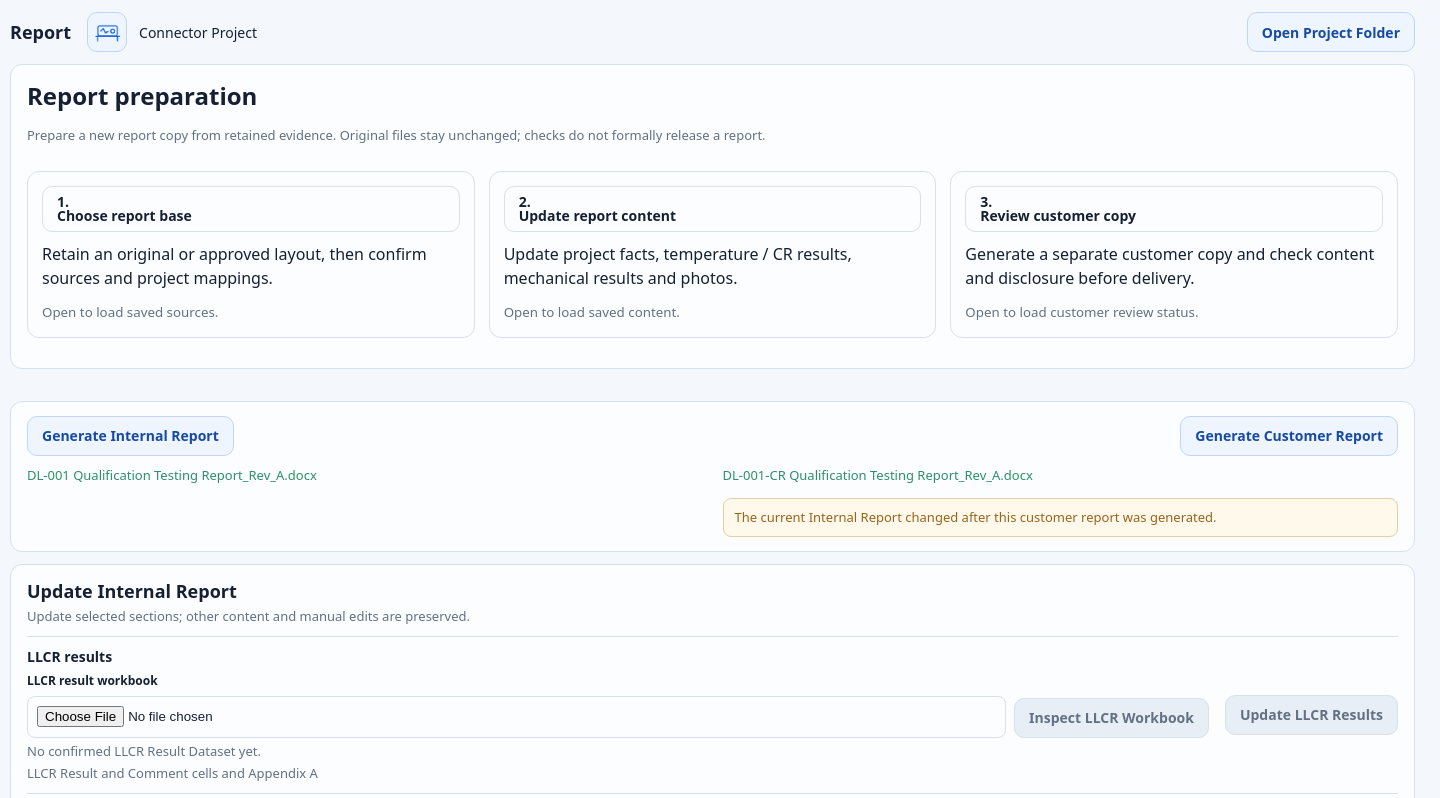
Test: ReportWorkspace › shows draft download failure without publishing and allows retry
Step 1. Click the button "Generate Internal Report" → (130, 436), box [27,416,234,456]
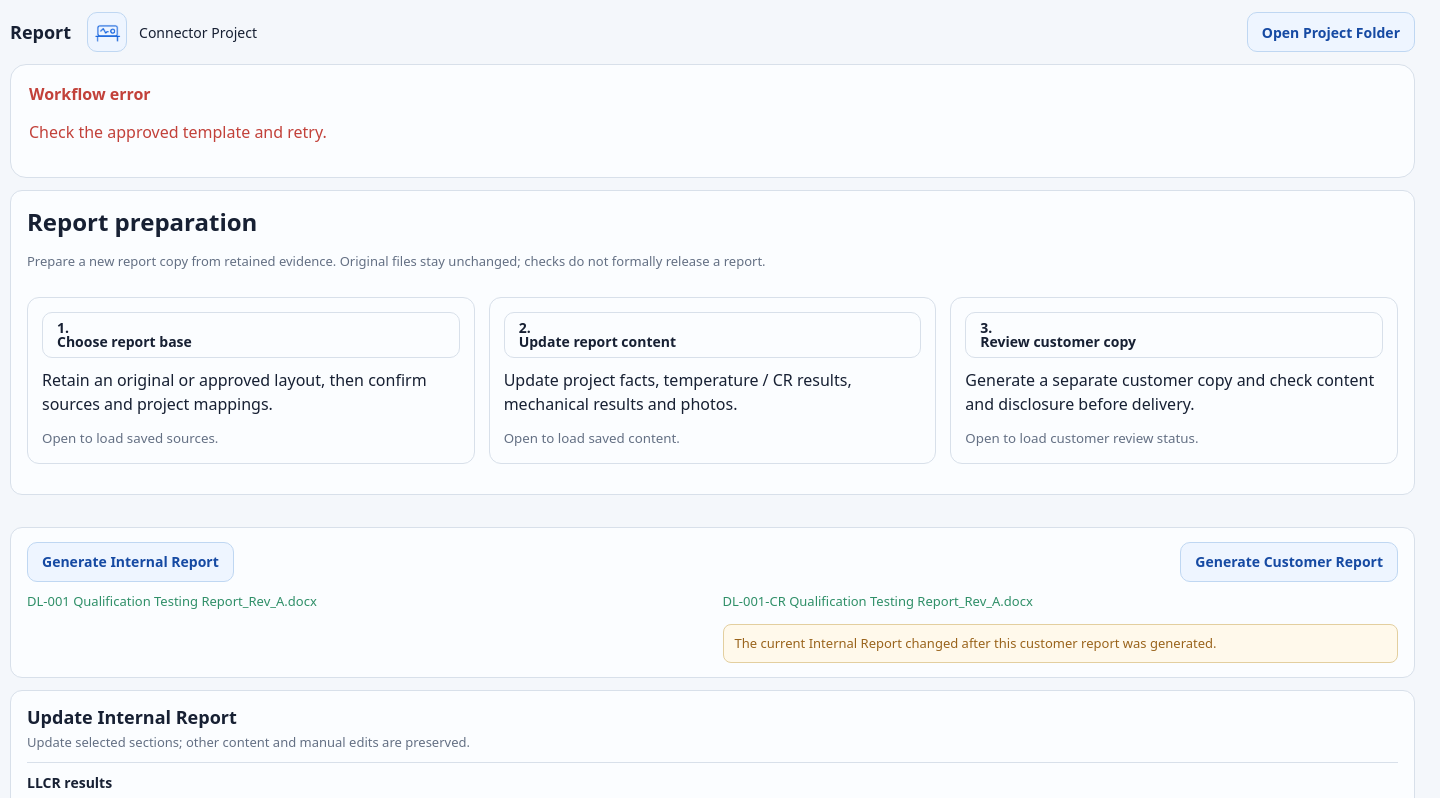
Check: the message shows "Check the approved template and retry.", box [29,121,327,143]
Step 2. Click the button "Generate Internal Report" → (130, 562), box [27,542,234,582]
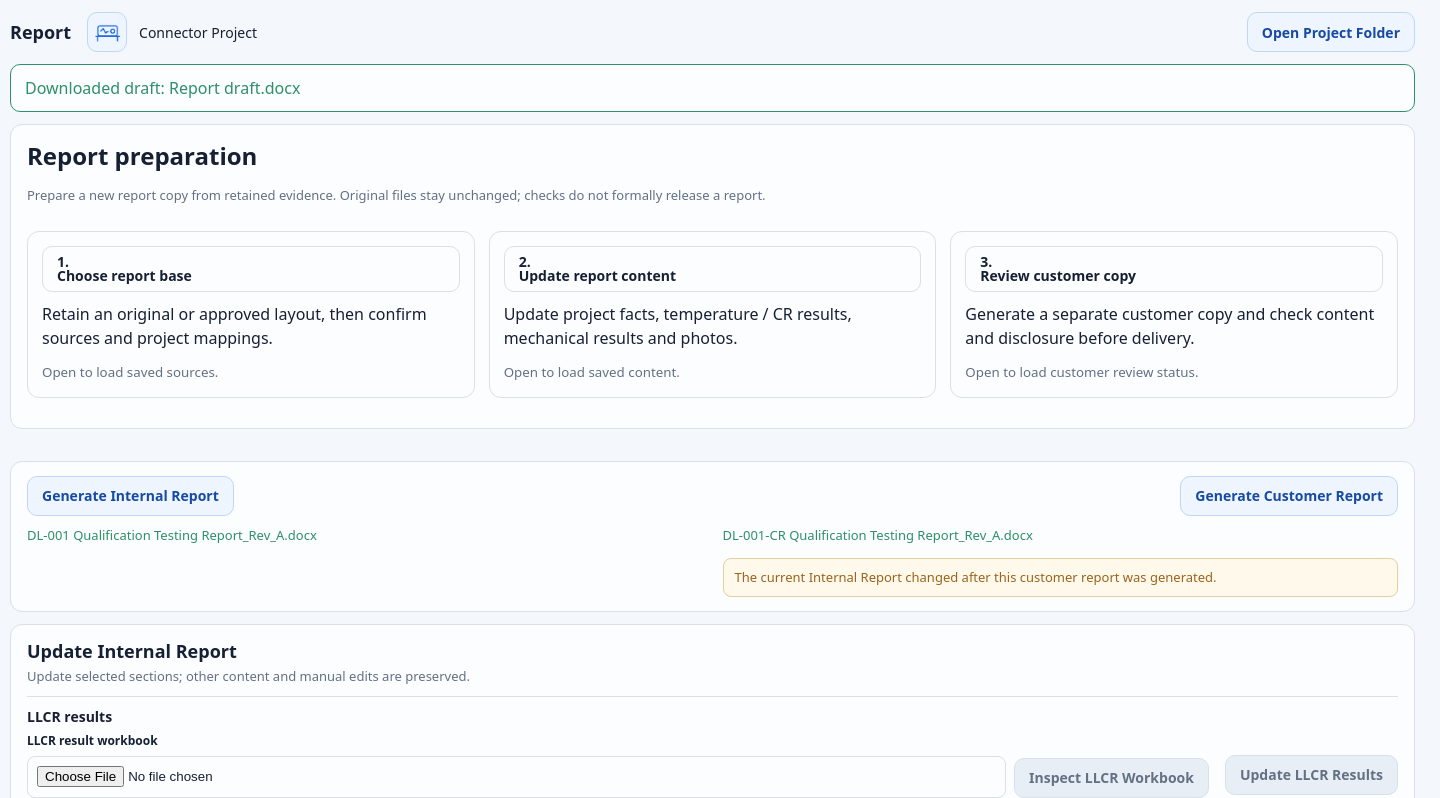
Check: the text "Downloaded draft: Report draft.docx" is shown, box [10,64,1415,112]
